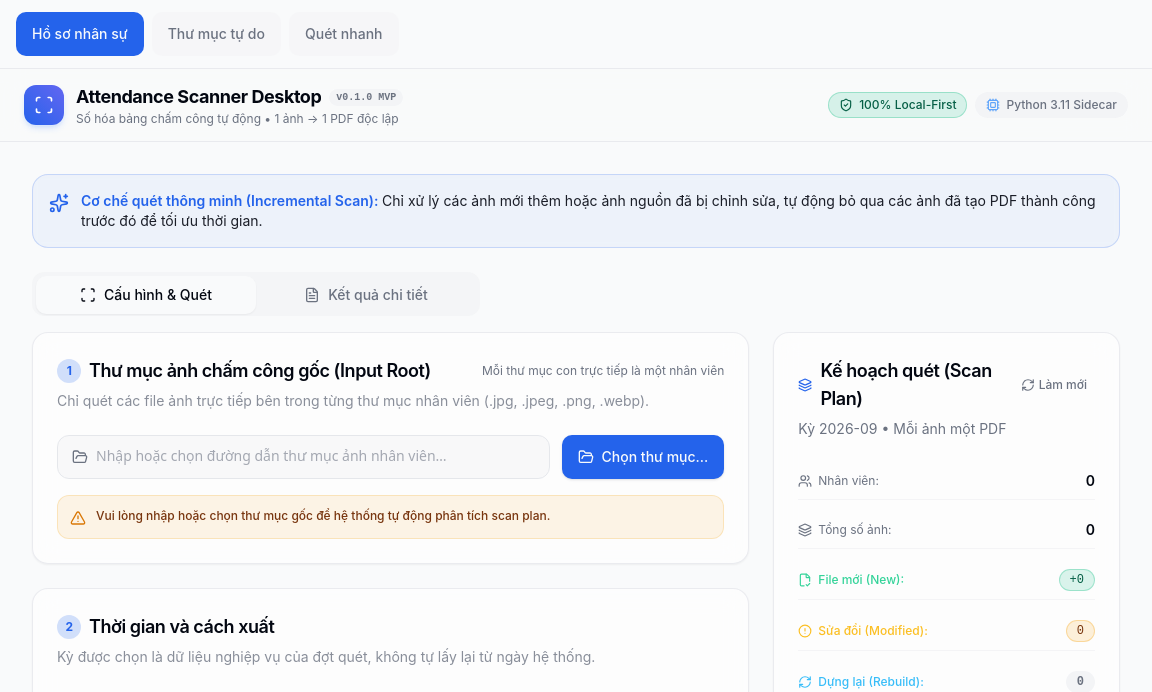
Scenario: App with shadcn UI tests › supports direct user typing into folder path input
Type "C:\\attendance\\custom_folder" into the field with placeholder "Nhập hoặc chọn đường dẫn thư mục ảnh nhân viên…" at (315, 457), box [96,447,535,467]
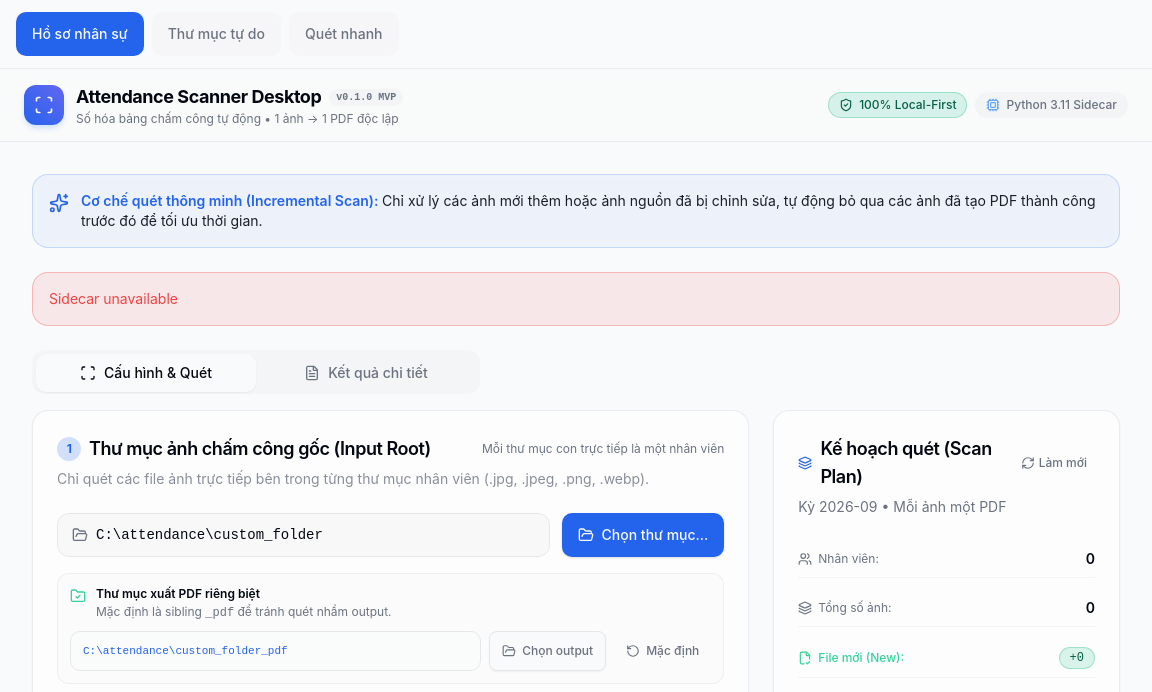
Now the field named "Thư mục xuất PDF" holds "C:\\attendance\\custom_folder_pdf", box [70,631,481,671]
